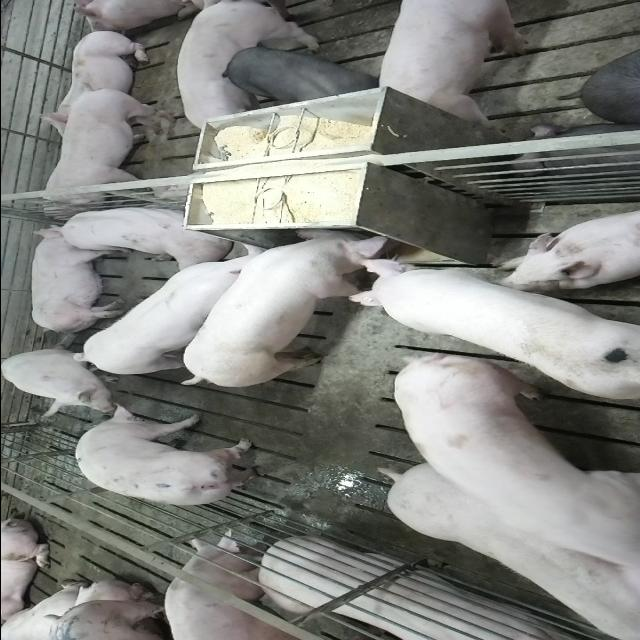Feeding: (342, 243, 634, 398), (174, 221, 398, 385)
Lateral_lying: (252, 539, 614, 640), (27, 226, 126, 334)
Sitting: (2, 346, 129, 414)
Standing: (378, 456, 640, 636), (384, 354, 634, 506), (70, 246, 282, 380), (70, 405, 274, 508), (374, 1, 536, 128), (36, 82, 180, 218), (173, 4, 321, 136), (164, 536, 306, 640), (218, 45, 374, 103)
Sternal_lying: (32, 30, 154, 130), (43, 202, 231, 265), (494, 207, 640, 287)
